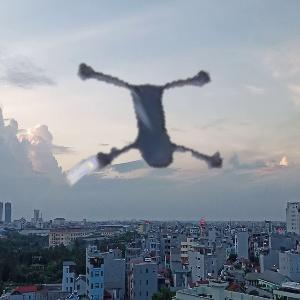drone: (15, 2, 257, 244)
